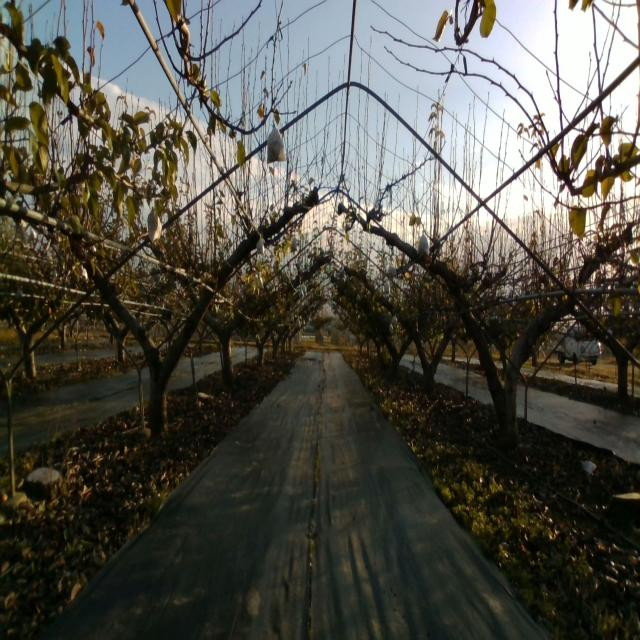pearbags: (266, 118, 286, 162), (147, 212, 163, 241), (417, 230, 430, 258)
